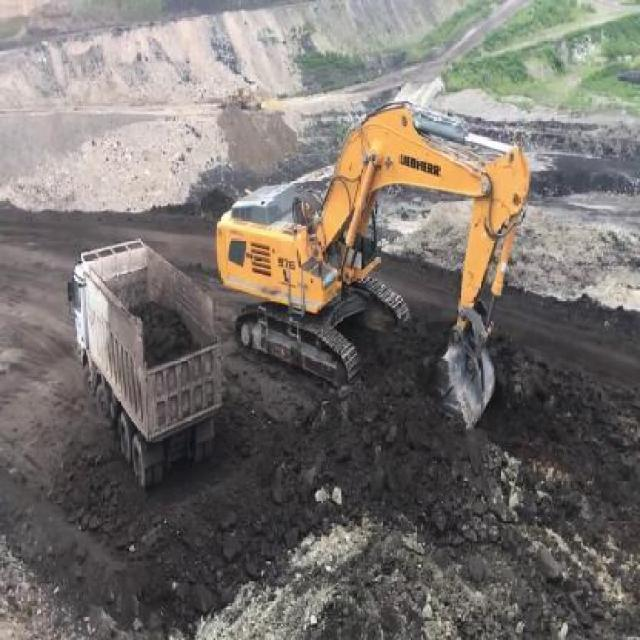dump_truck: (66, 232, 223, 486)
excavator: (214, 107, 532, 438)
